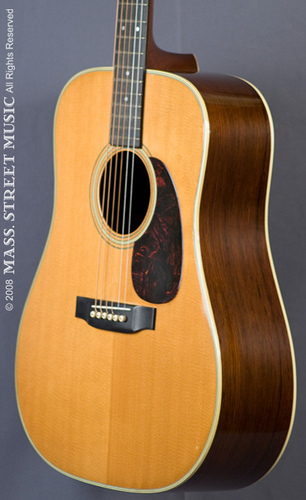guitar: (13, 1, 300, 494)
